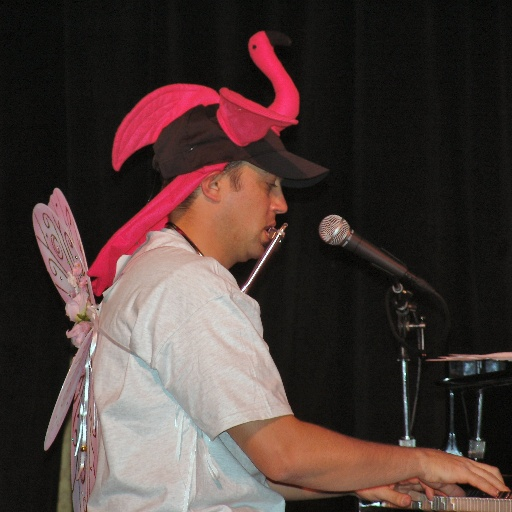hand: (243, 398, 445, 490), (353, 476, 466, 511)
